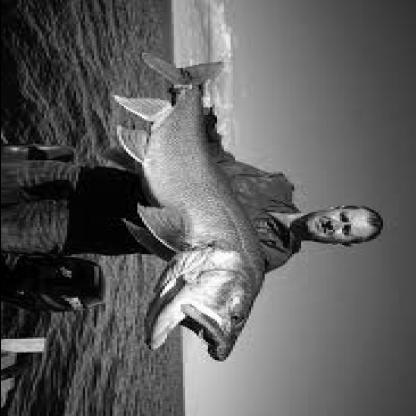fish: (111, 51, 271, 363)
